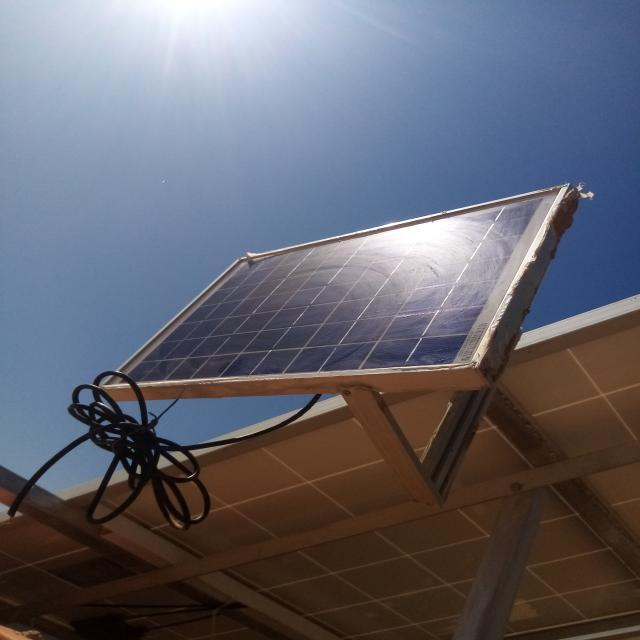no faulty: (97, 183, 569, 386)
